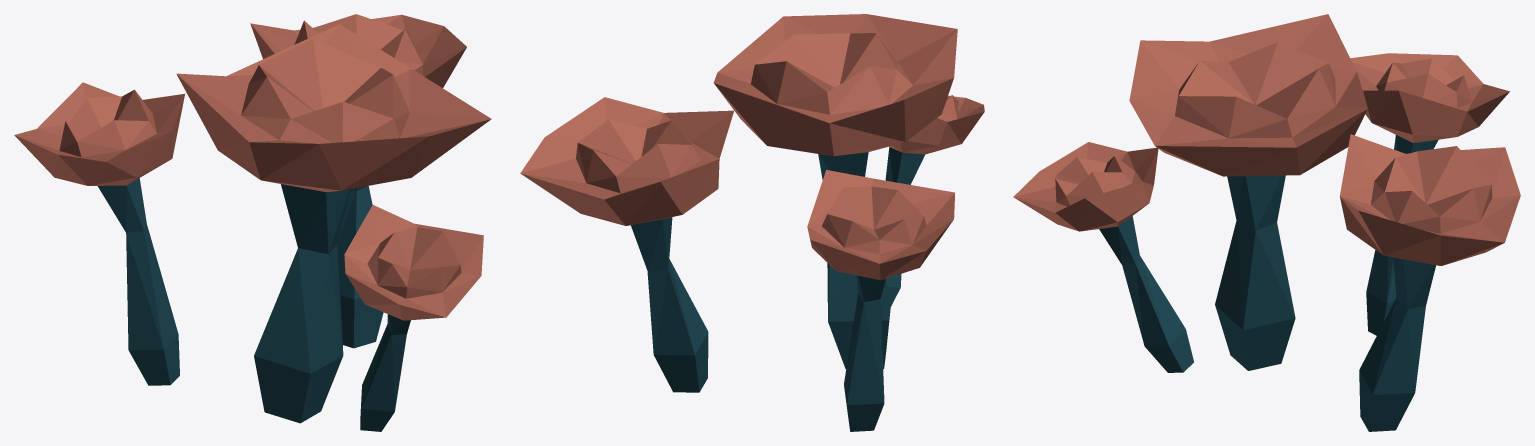
File: SM_Env_Flower_04.fbx
The picture shows the model from 3 angles, left to right: view 1: azimuth 30°, elevation 25°; view 2: azimuth 150°, elevation 25°; view 3: azimuth 270°, elevation 25°; orthographic projection. The views are drawn at different scales.
Visible parts, largest first — view 1: SM_Env_Flower_04; view 2: SM_Env_Flower_04; view 3: SM_Env_Flower_04.
Boxes of the visible parts, x1,y1,x2,y2 form: SM_Env_Flower_04: (14,14,491,431); SM_Env_Flower_04: (520,14,984,431); SM_Env_Flower_04: (1013,14,1520,431).
Bounding box in the file's own units: 0.00479 × 0.00377 × 0.00535.
Materials: 1 (1 with a texture image).
